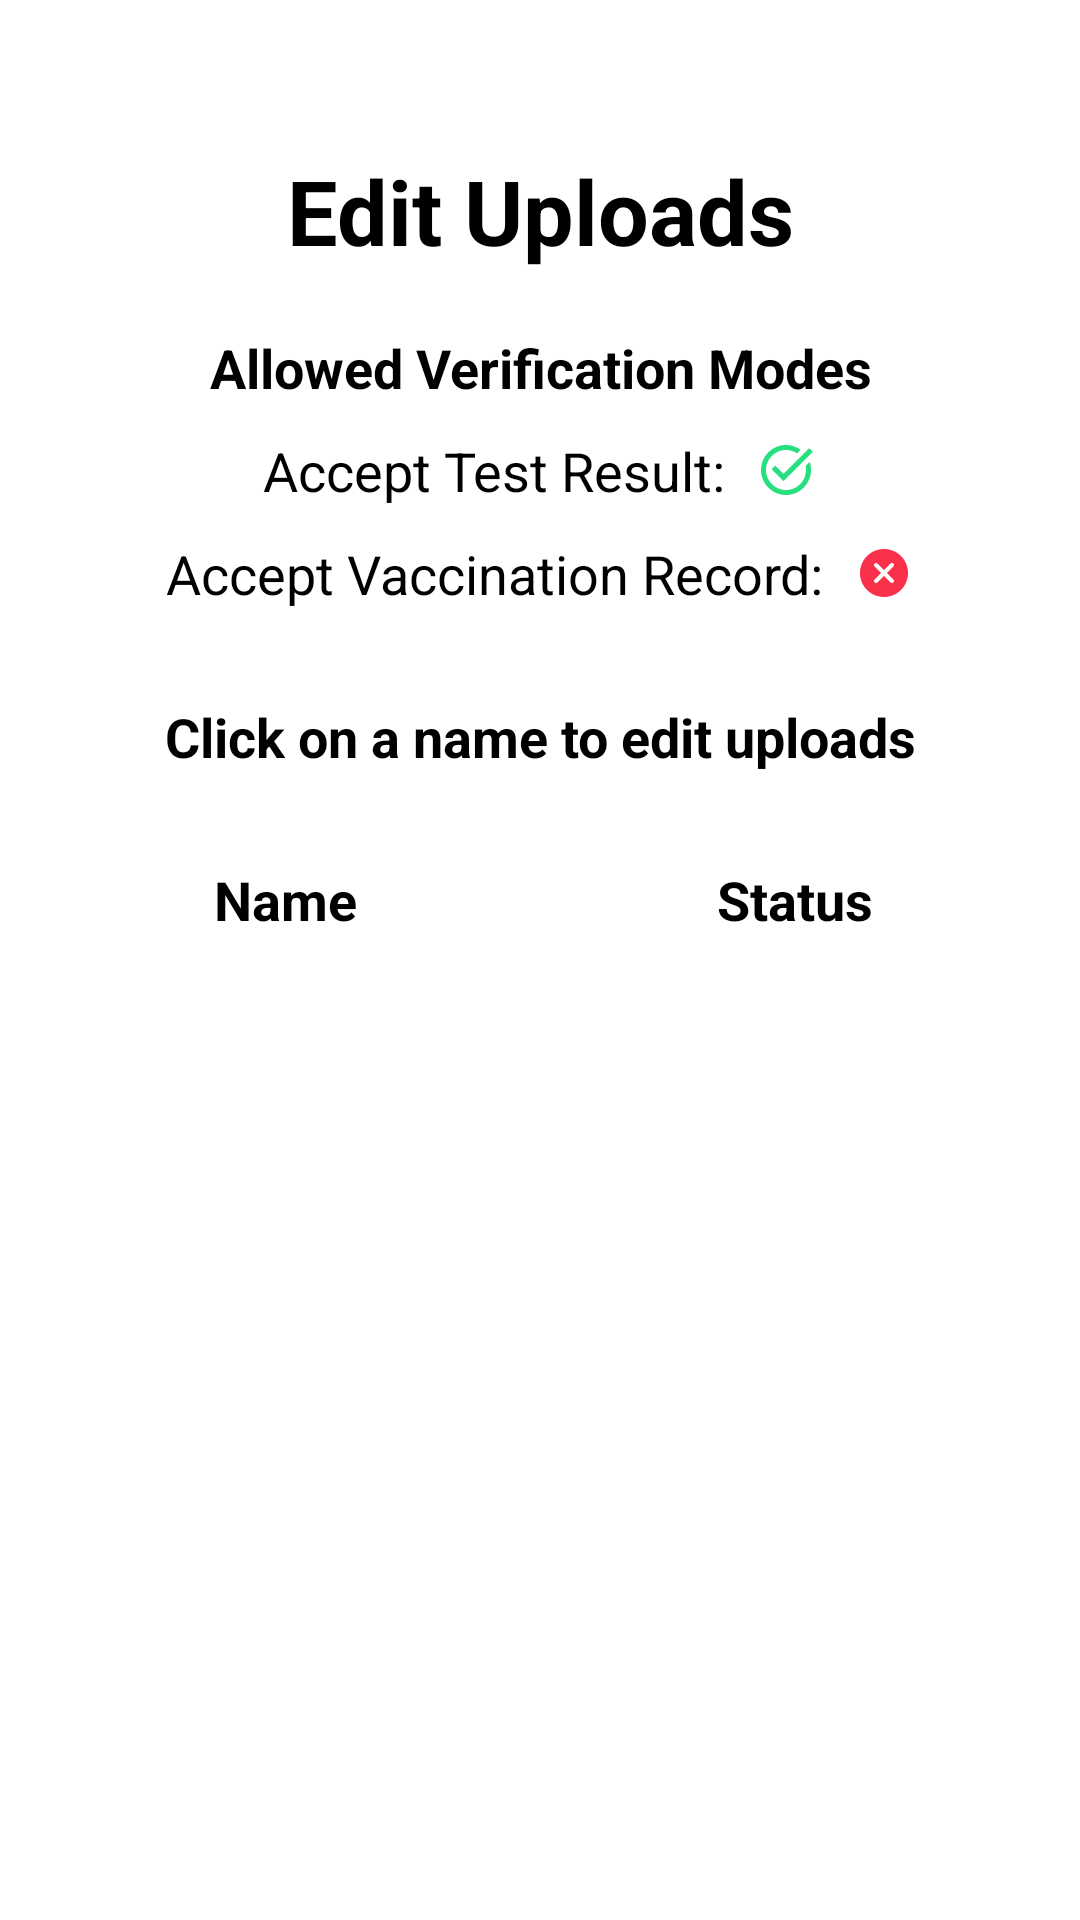

Named icons in this screenshot (1080×1920) and their bounding boxes, [x1, y1, x2, y2]:
cancel: [860, 549, 908, 597]
check circle: [761, 445, 813, 495]
